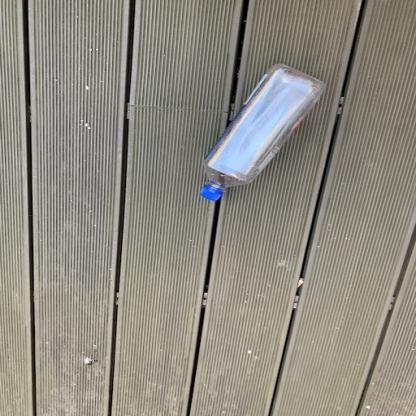trash: (194, 63, 326, 206)
